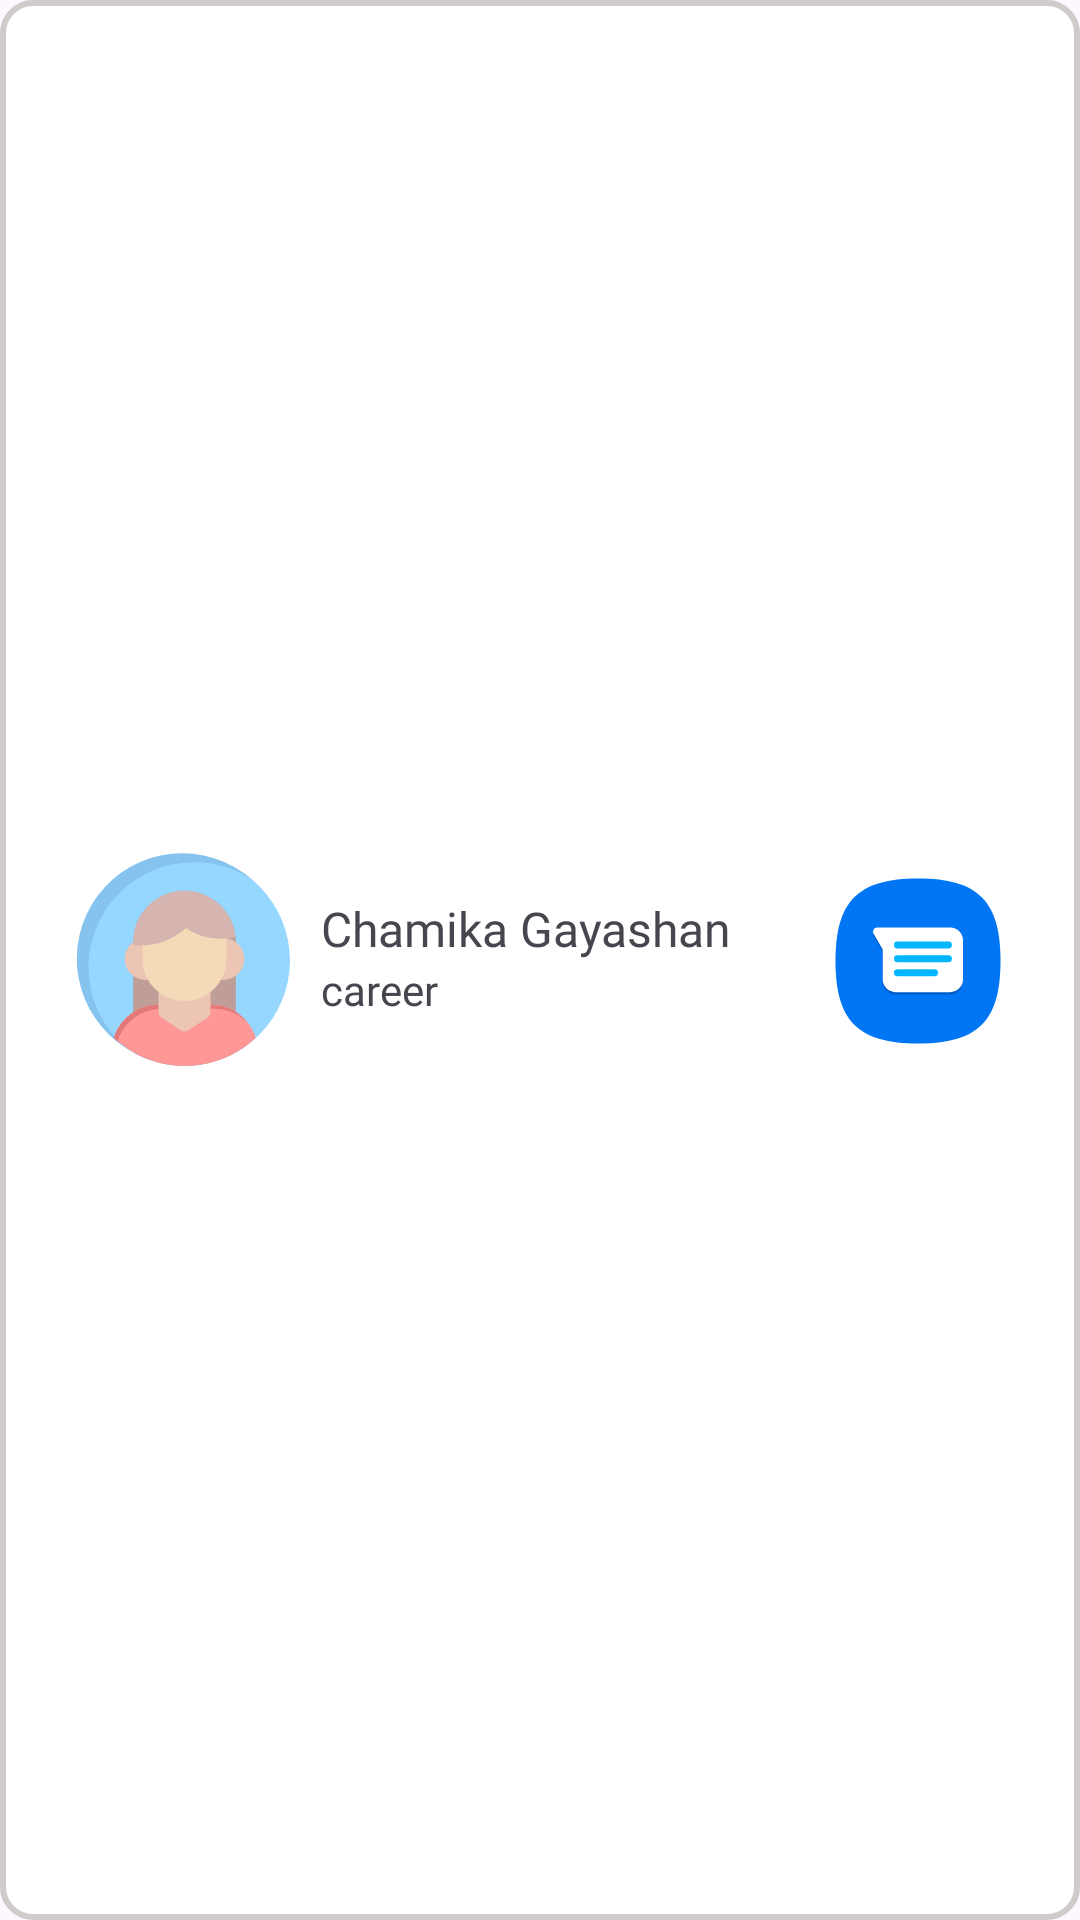

Named icons in this screenshot (1080px x 1920px) and their centers, (x,y):
profile: (183,959)
